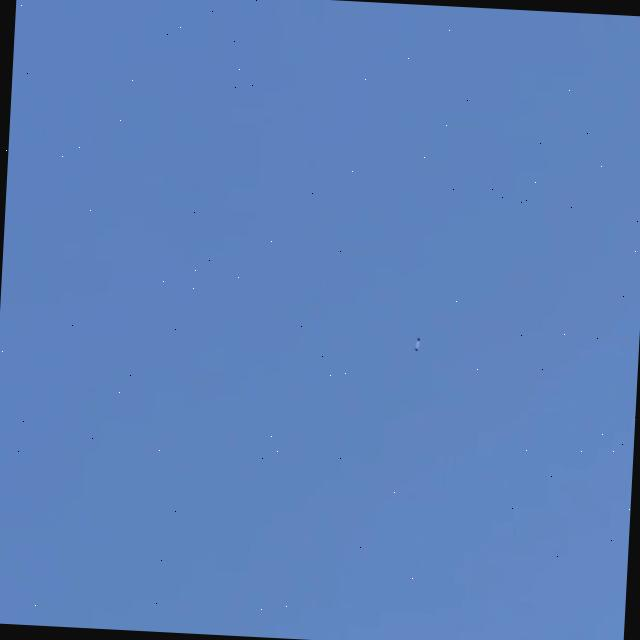rocket: (413, 337, 421, 353)
